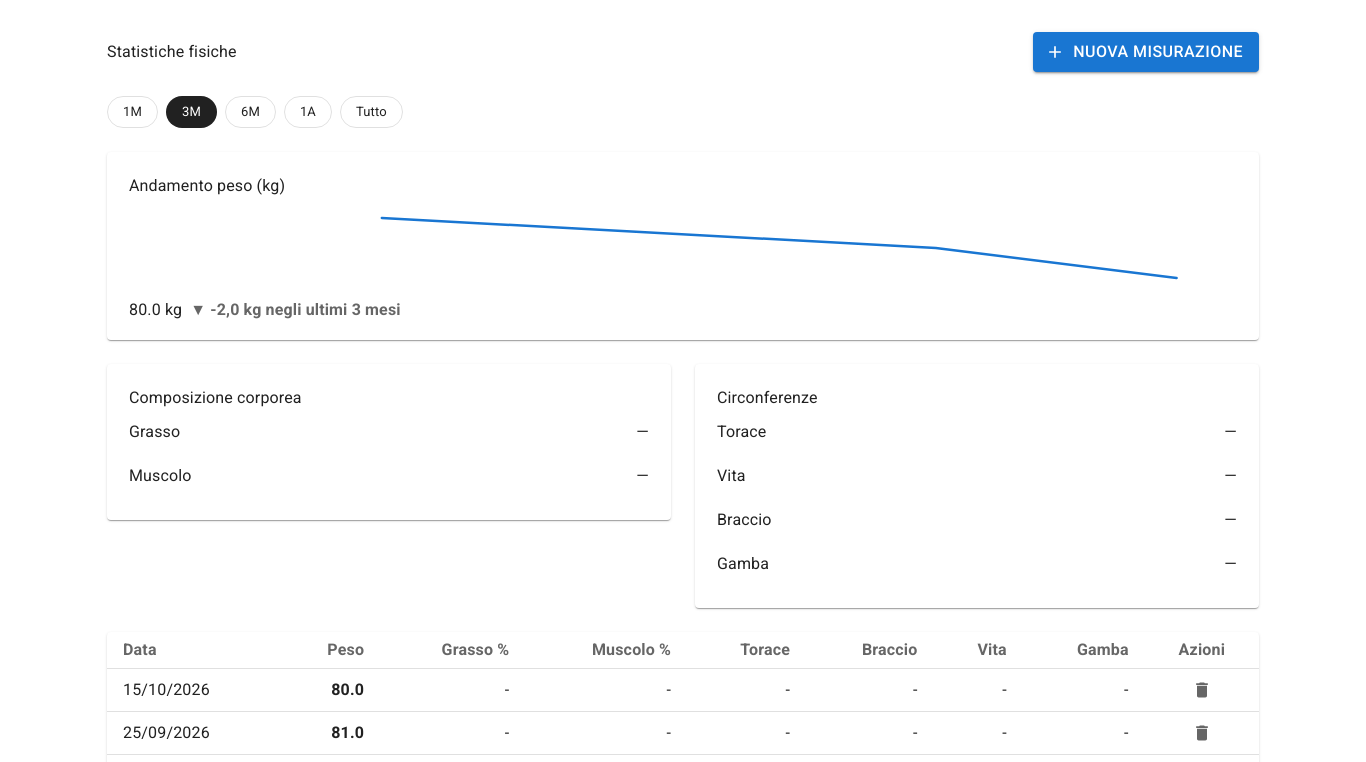
Test: periodo e variazione del peso › cambiando periodo cambiano variazione e testo
Expected: the element named "Periodo" is shown, [107,96,403,128]
Click the button "1M" at (132, 112), box [107,96,158,128]
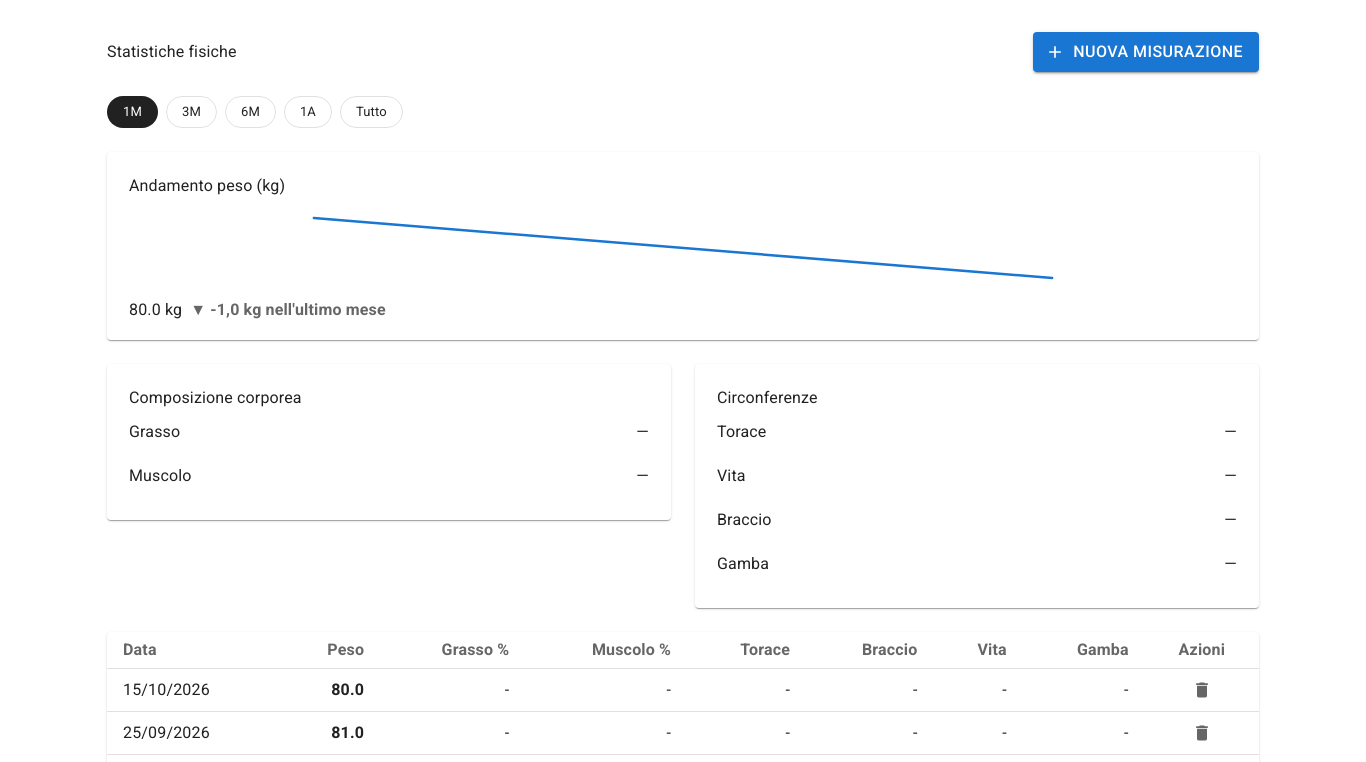
Result: the text "▼ -1,0 kg nell'ultimo mese" is shown at [190,298,386,322]
Click the button "6M" at (250, 112), box [225,96,276,128]
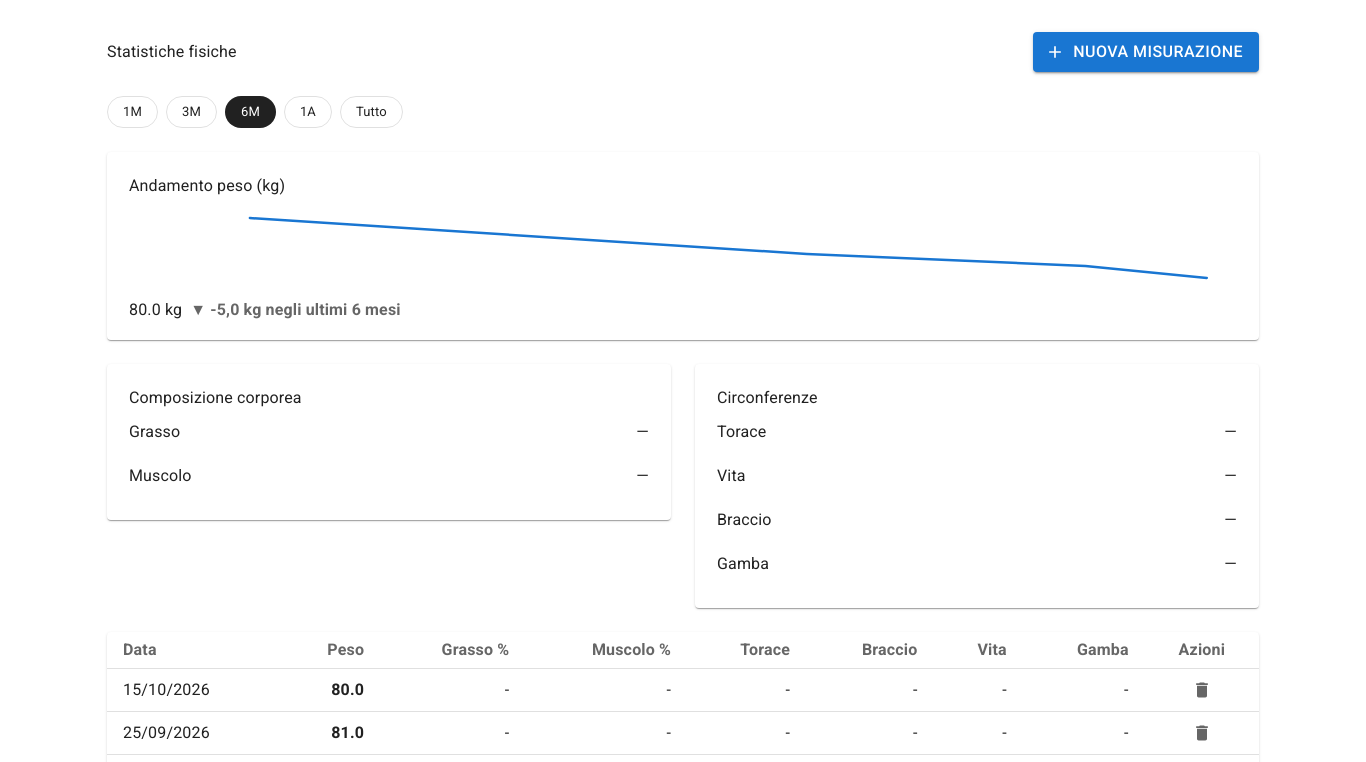
Result: the text "▼ -5,0 kg negli ultimi 6 mesi" is shown at [190,298,401,322]
Click the button "1A" at (308, 112), box [284,96,332,128]
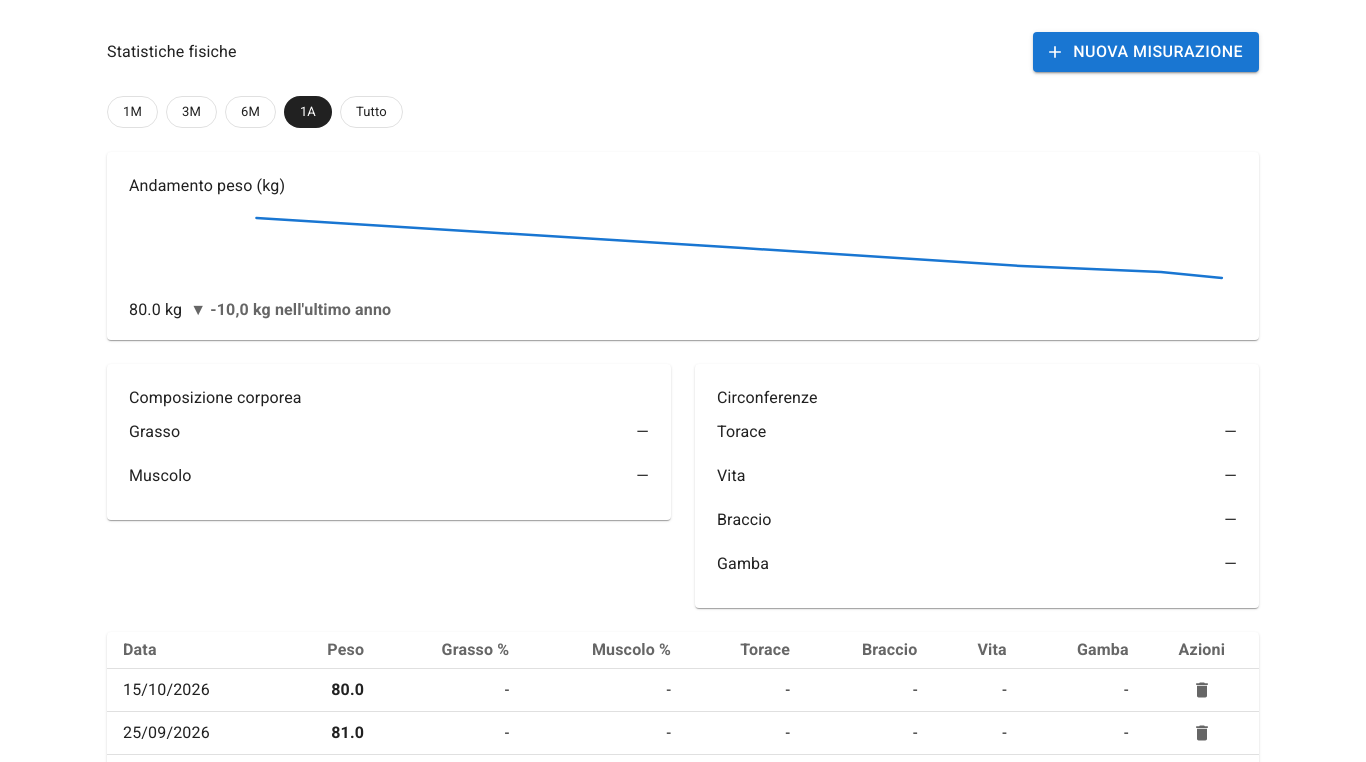
Result: the text "▼ -10,0 kg nell'ultimo anno" is shown at [190,298,391,322]
Click the button "Tutto" at (371, 112), box [340,96,403,128]
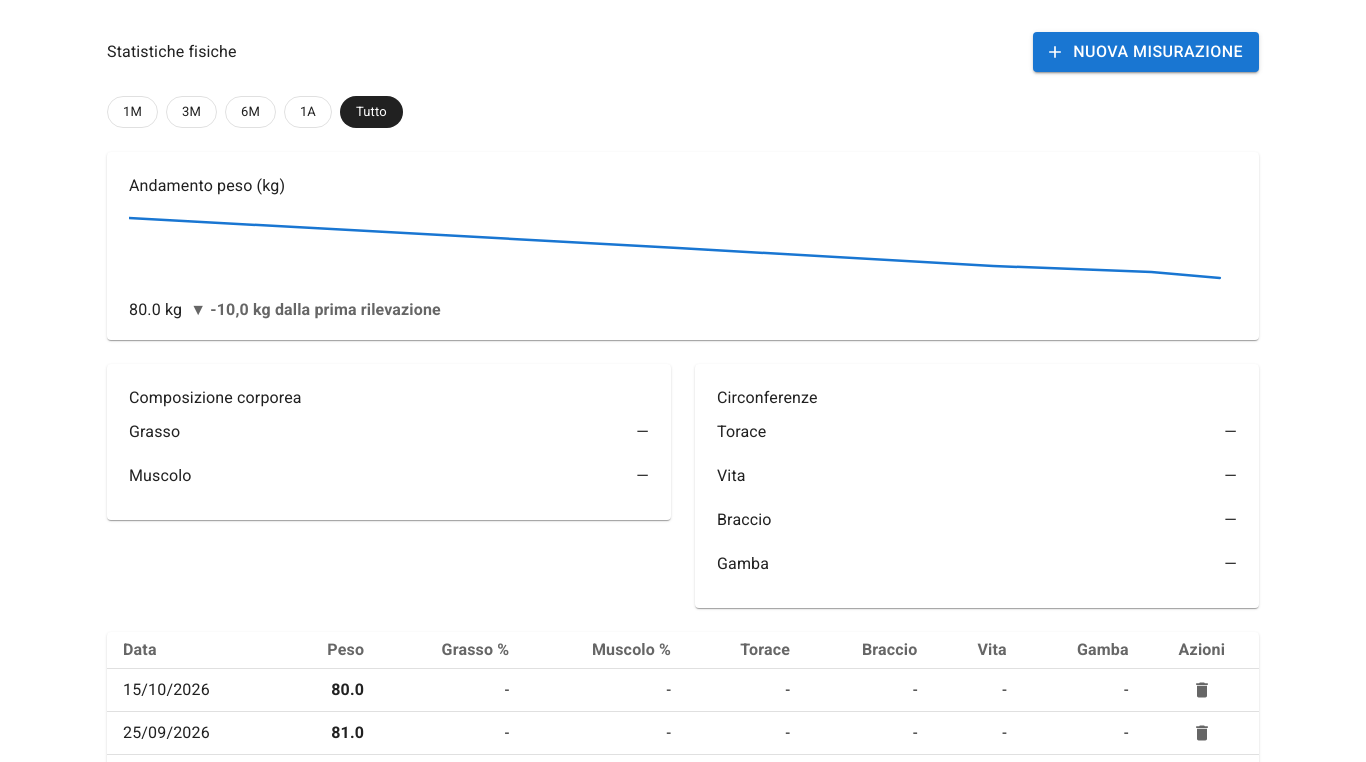
Result: the text "▼ -10,0 kg dalla prima rilevazione" is shown at [190,298,441,322]
